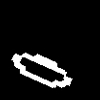chain: (12, 53, 71, 87)
